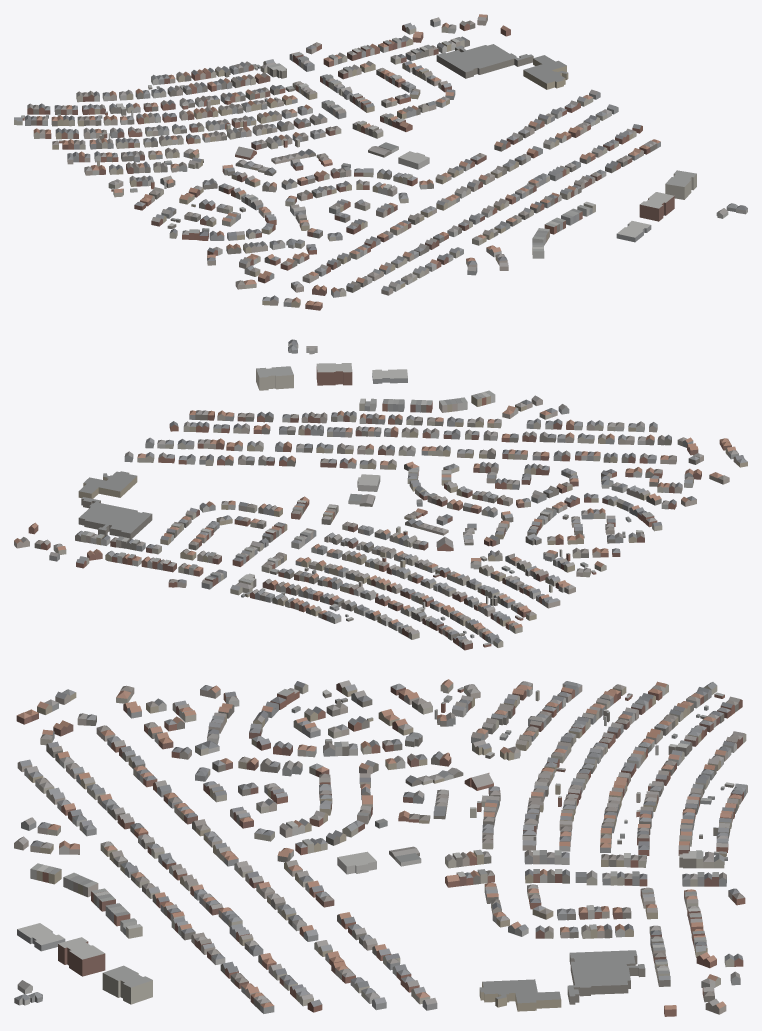
3 renders of one model, top to bottom at view 1: azimuth 30°, elevation 25°; view 2: azimuth 150°, elevation 25°; view 3: azimuth 270°, elevation 25°, orthographic. The views are drawn at different scales.
Parts seen in each view (by area): view 1: way/259229500, way/259229236, way/1426187847, way/1426187845; view 2: way/259229500, way/259229236, way/1426187845, way/1426187847; view 3: way/259229500, way/259229236, way/1426187845, way/1426187847, way/1426187846, way/1212238217.
Boxes of the visible parts, bbox=[...] form: way/259229500: bbox=[436, 44, 533, 78]; way/259229236: bbox=[523, 55, 568, 89]; way/1426187847: bbox=[639, 192, 674, 221]; way/1426187845: bbox=[665, 170, 696, 199]; way/259229500: bbox=[78, 497, 152, 539]; way/259229236: bbox=[78, 471, 137, 498]; way/1426187845: bbox=[256, 366, 293, 390]; way/1426187847: bbox=[316, 363, 352, 385]; way/259229500: bbox=[567, 950, 645, 1004]; way/259229236: bbox=[479, 979, 561, 1011]; way/1426187845: bbox=[102, 965, 152, 1004]; way/1426187847: bbox=[58, 937, 105, 976]; way/1426187846: bbox=[17, 923, 65, 951]; way/1212238217: bbox=[337, 851, 376, 874].
Bounding box in the file's own units: 507 × 23.13 × 509.
